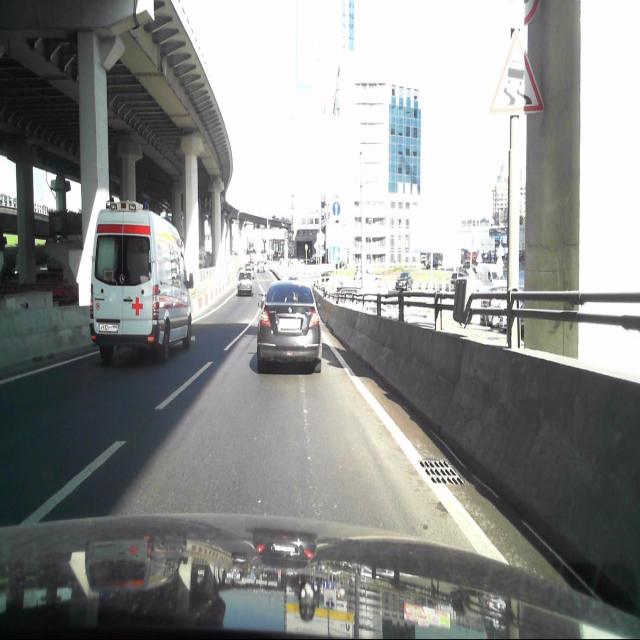road sign: (488, 36, 544, 115), (509, 115, 519, 287)
